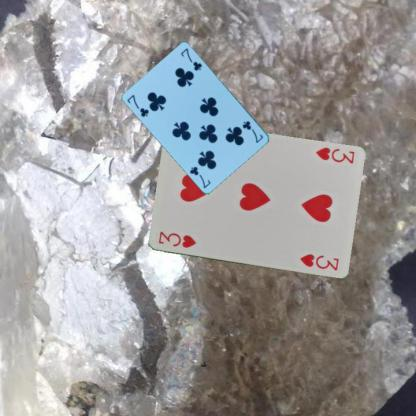3h: (312, 144, 356, 166), (155, 228, 197, 249)
7c: (125, 92, 150, 118), (240, 118, 264, 144)
